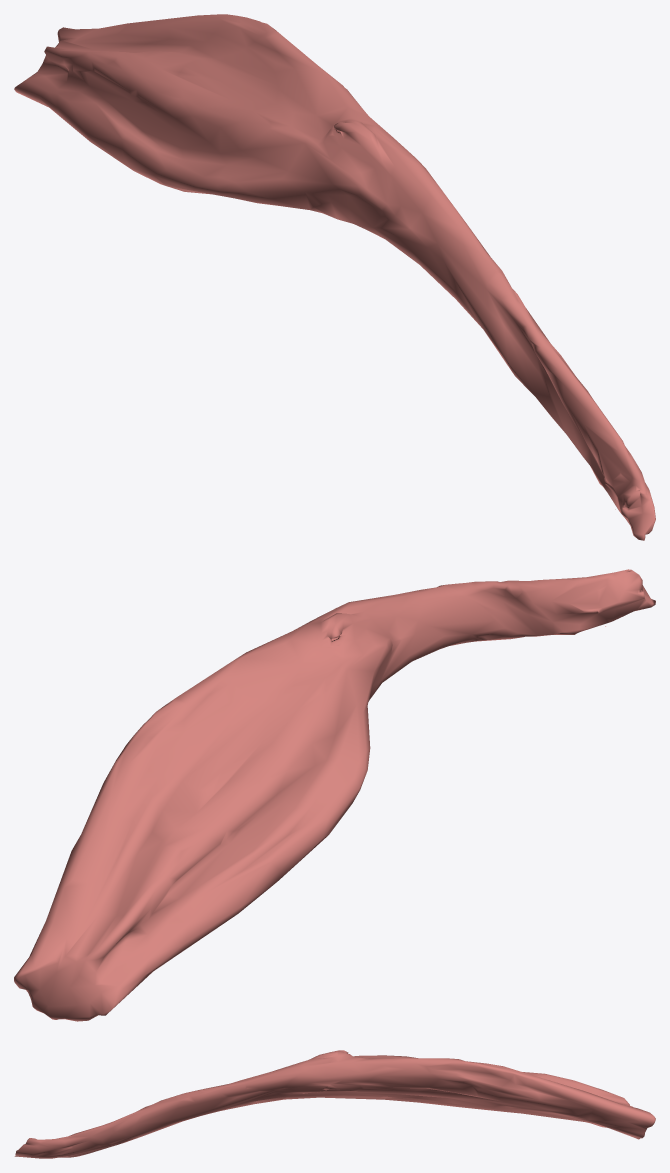
3 renders of one model, top to bottom at view 1: azimuth 30°, elevation 25°; view 2: azimuth 150°, elevation 25°; view 3: azimuth 270°, elevation 25°, orthographic. The views are drawn at different scales.
Parts seen in each view (by area): view 1: ZA_190fa69ffd942c79; view 2: ZA_190fa69ffd942c79; view 3: ZA_190fa69ffd942c79.
Part boxes in pixels (<box>): ZA_190fa69ffd942c79: <box>14,14,655,540</box>; ZA_190fa69ffd942c79: <box>14,569,655,1021</box>; ZA_190fa69ffd942c79: <box>14,1050,655,1158</box>.
Bounding box in the file's own units: 0.0204 × 0.0269 × 0.1452.
